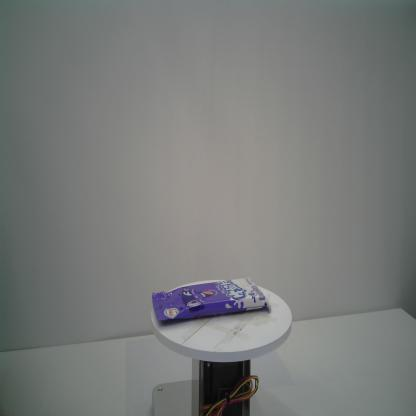Candy: (150, 276, 272, 323)
